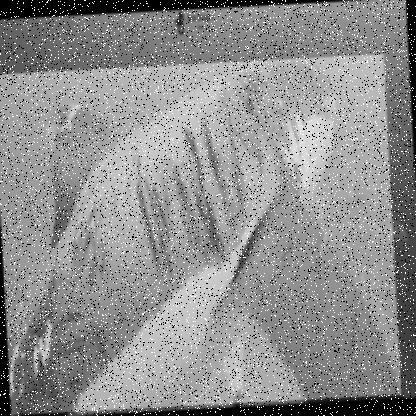white-shark: (0, 53, 403, 415)
